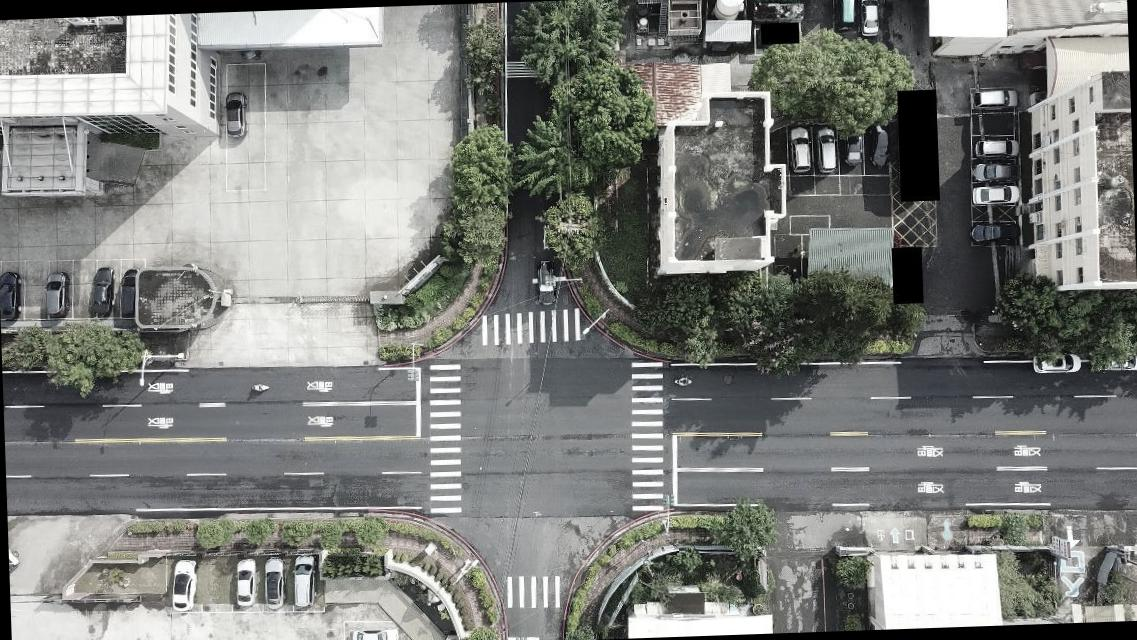vehicle: (169, 555, 199, 610), (290, 552, 317, 609), (43, 270, 71, 322), (0, 269, 26, 324), (90, 264, 115, 318), (262, 554, 286, 609), (968, 220, 1021, 244), (222, 92, 250, 137), (971, 86, 1017, 113), (116, 266, 140, 317), (233, 556, 257, 606), (970, 159, 1020, 183), (970, 182, 1022, 205), (1092, 349, 1136, 374), (1033, 350, 1083, 372), (815, 126, 837, 174), (868, 122, 890, 166), (788, 126, 810, 170), (536, 258, 556, 304), (975, 138, 1021, 158), (842, 126, 864, 166), (857, 0, 879, 39), (350, 625, 403, 639), (838, 0, 859, 30)
